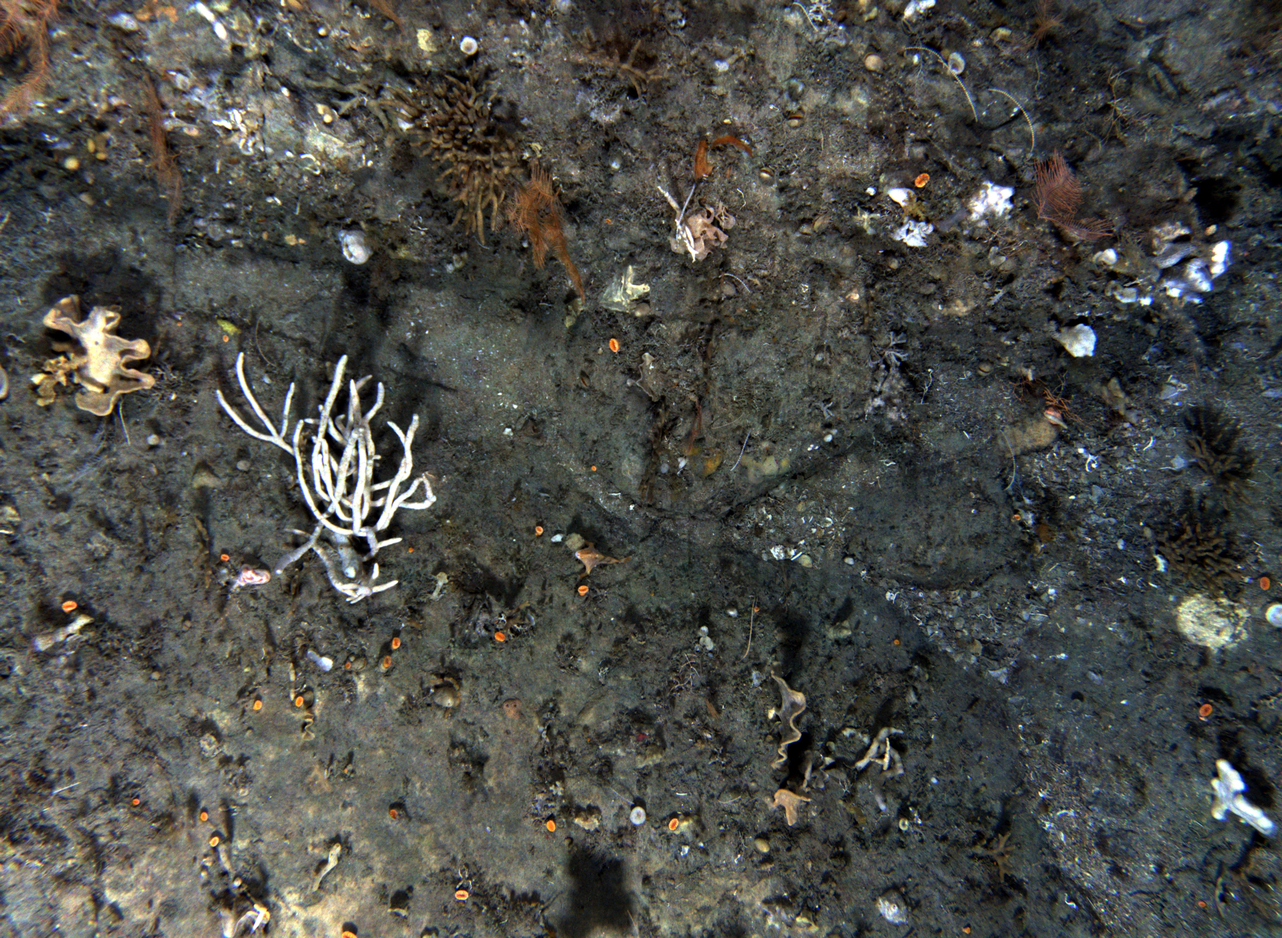Brachionichthyidae: (573, 538, 634, 583)
